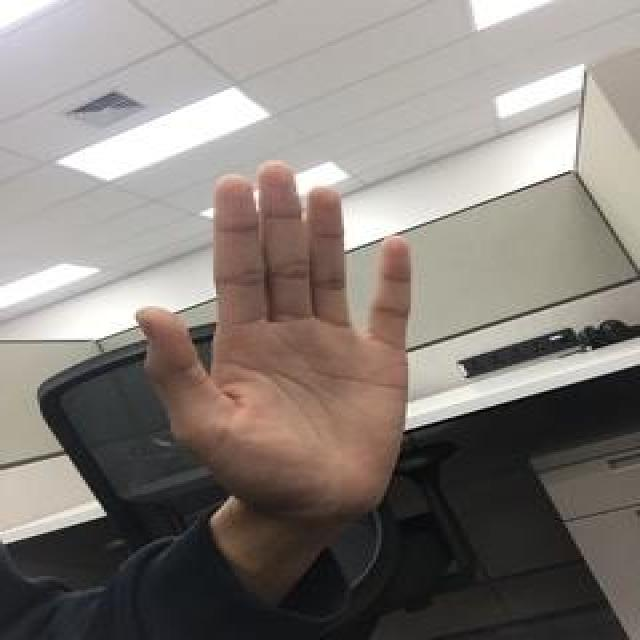hand: (129, 159, 415, 509)
